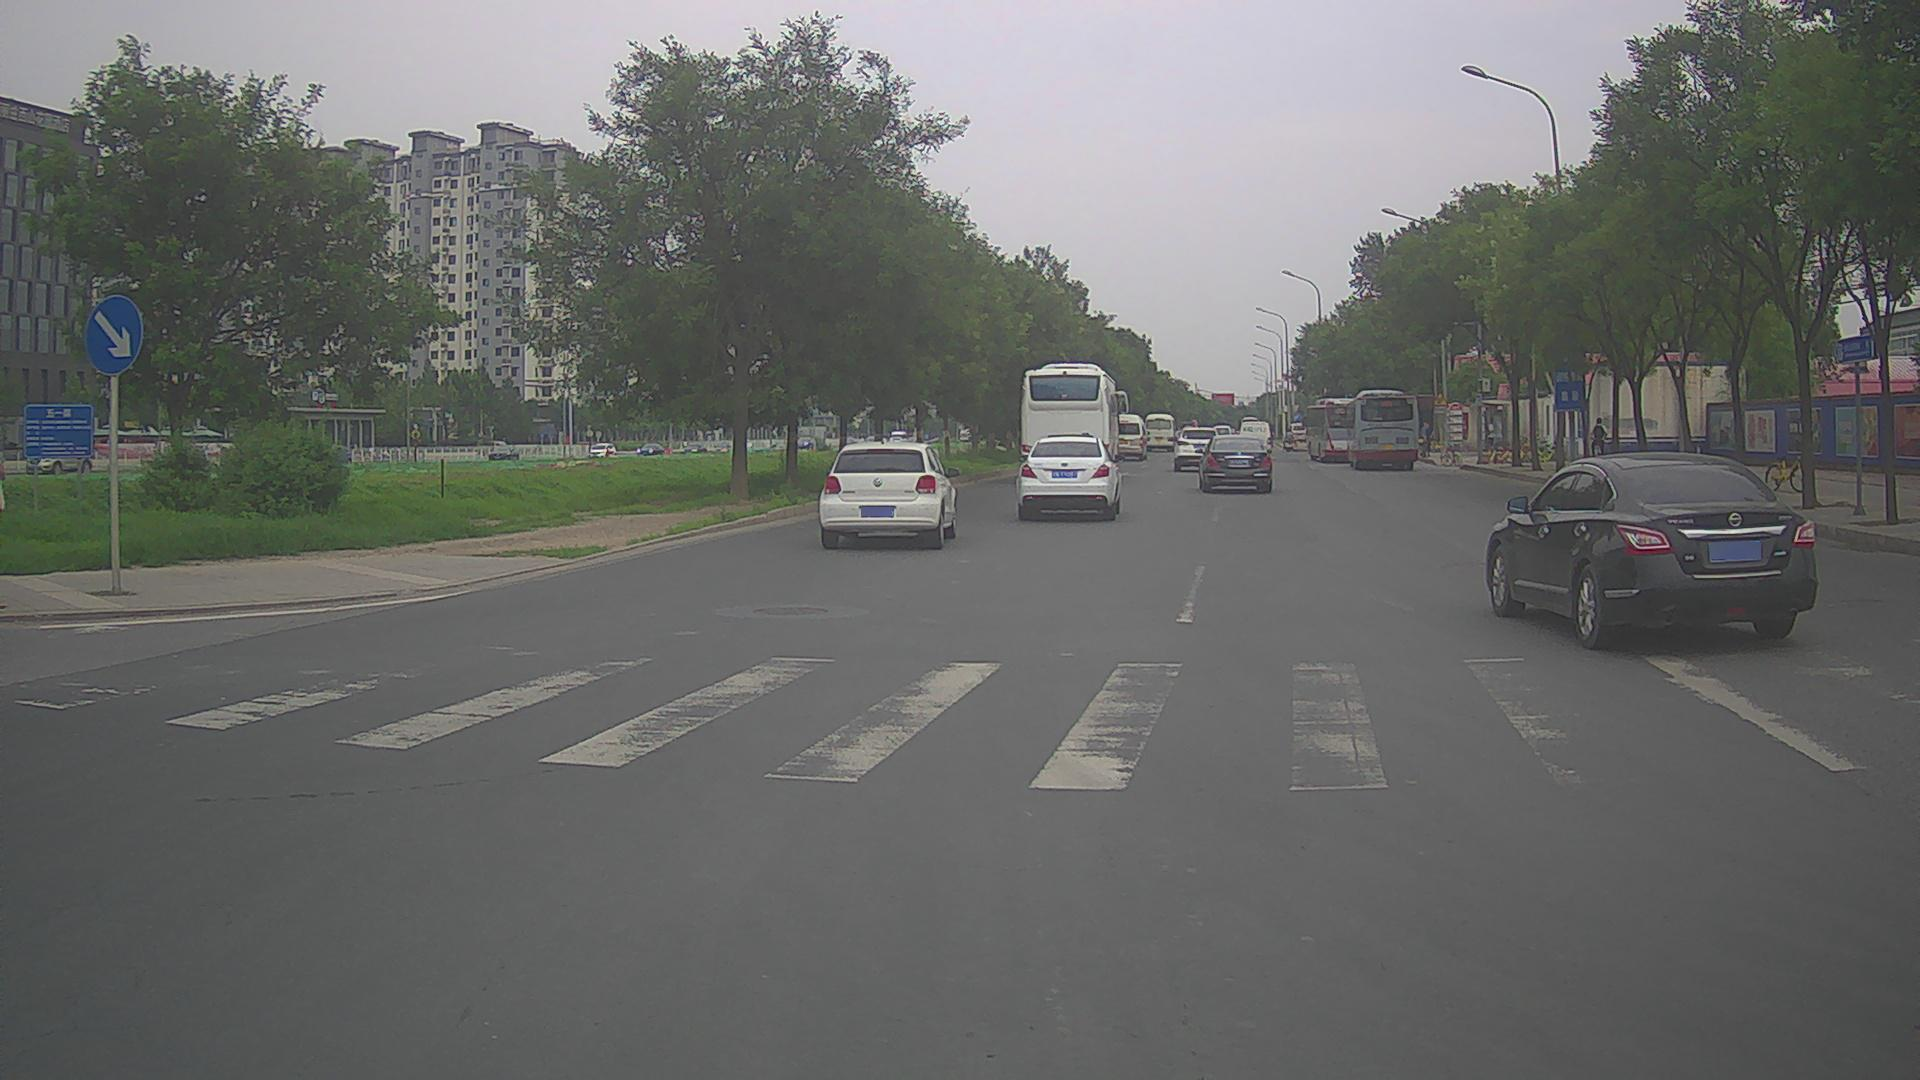bus: (1019, 362, 1129, 481), (1338, 389, 1419, 470), (1301, 397, 1380, 463)
car: (1483, 450, 1819, 650), (818, 440, 961, 550), (1014, 435, 1126, 521), (1193, 433, 1273, 494), (1169, 425, 1224, 472), (24, 442, 93, 477), (488, 445, 519, 464), (588, 441, 617, 461), (635, 442, 665, 459), (1289, 421, 1308, 443), (679, 443, 707, 456), (710, 440, 732, 455), (793, 437, 814, 451)
cyclist: (1588, 416, 1609, 469)
ignore: (846, 430, 914, 443), (1213, 424, 1241, 435), (1239, 415, 1260, 422), (1181, 420, 1197, 427), (345, 450, 352, 464), (747, 438, 753, 450)
motorcyclist: (1283, 427, 1296, 452)
pedestrian: (1485, 414, 1499, 460), (1418, 421, 1427, 458), (1423, 422, 1431, 457), (604, 446, 610, 461)
truck: (958, 427, 984, 444)
van: (1103, 413, 1151, 462), (1142, 412, 1179, 452), (1238, 420, 1273, 453)
